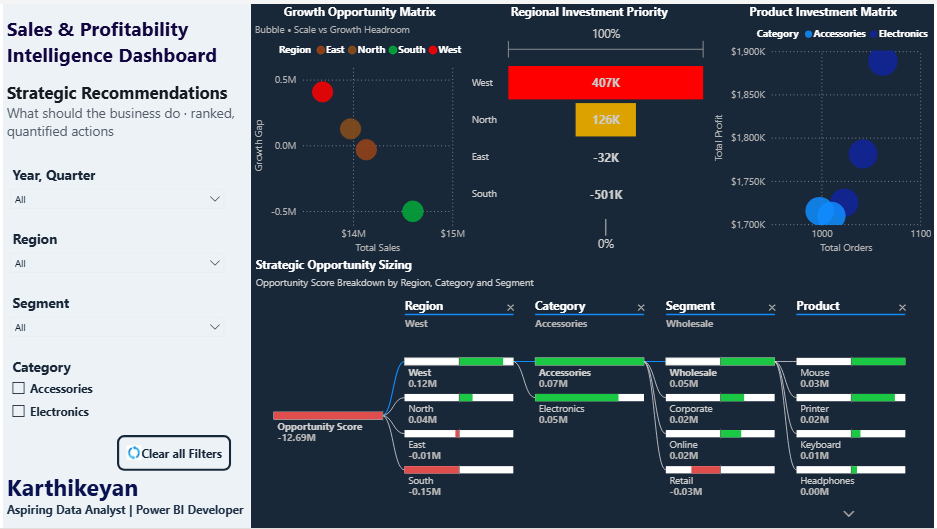

This screenshot's page, from the dashboard's own definition file:
{"tool":"powerbi","page":{"name":"Strategic Recommendations","canvas":[1280,720],"ordinal":5},"visuals":[{"type":"shape","box":[0,0,340.6,720],"z":0,"group":"g1"},{"type":"shape","box":[340.6,0,939.6,720],"z":1000,"group":"g1"},{"type":"textbox","box":[0,9,340.6,91.1],"z":2000,"group":"g1"},{"type":"slicer","fields":{"Values":["Calendar.Year","Calendar.Quarter"]},"box":[0,216.6,313.7,88.1],"z":3000,"group":"g1"},{"type":"slicer","fields":{"Values":["SalesData.Region"]},"box":[0,304.7,313.7,88.1],"z":4000,"group":"g1"},{"type":"slicer","fields":{"Values":["SalesData.Category"]},"box":[0,481,313.7,110.5],"z":5000,"group":"g1"},{"type":"slicer","fields":{"Values":["SalesData.Segment"]},"box":[0,392.9,313.7,88.1],"z":6000,"group":"g1"},{"type":"textbox","box":[0,636.3,339.1,83.7],"z":7000,"group":"g1"},{"type":"actionButton","box":[156.8,591.5,156.8,49.3],"z":8000,"group":"g1"},{"type":"textbox","box":[0,100.1,340.6,116.5],"z":9000,"group":"g1"},{"type":"scatterChart","title":"Growth Opportunity Matrix","fields":{"X":["SalesData.Total Sales"],"Y":["SalesData.Growth Gap"],"Size":["SalesData.Total Profit"],"Series":["SalesData.Region"],"Category":["SalesData.Region"]},"box":[340.6,0,298.8,348],"z":10000,"group":"g1"},{"type":"scatterChart","title":"Product Investment Matrix","fields":{"X":["SalesData.Total Orders"],"Y":["SalesData.Total Profit"],"Category":["SalesData.Product"],"Series":["SalesData.Category"],"Size":["SalesData.Total Sales"]},"box":[972.4,0,307.7,348],"z":11000,"group":"g1"},{"type":"funnel","title":"Regional Investment Priority","fields":{"Category":["SalesData.Region"],"Y":["SalesData.Growth Gap"]},"box":[639.3,0,333.1,348],"z":12000,"group":"g1"},{"type":"decompositionTreeVisual","title":"Strategic Opportunity Sizing","fields":{"Analyze":["SalesData.Opportunity Score"],"ExplainBy":["SalesData.Region","SalesData.Category","SalesData.Segment","SalesData.Product"]},"box":[342.1,348,938.1,372],"z":13000,"group":"g1"},{"type":"group","id":"g1","title":"Group 1","box":[0,0,1280.2,720],"z":13001}]}

Visuals, with their boxes on the page's 1280x720 design canvas (x1, y1, x2, y2). These are canvas units, not pixel positions in the 937x529 screenshot, which may show the page scaled, cropped or inside an application window:
shape: [left=0, top=0, right=341, bottom=720]
shape: [left=341, top=0, right=1280, bottom=720]
textbox: [left=0, top=9, right=341, bottom=100]
slicer - Calendar.Year x Calendar.Quarter: [left=0, top=217, right=314, bottom=305]
slicer - SalesData.Region: [left=0, top=305, right=314, bottom=393]
slicer - SalesData.Category: [left=0, top=481, right=314, bottom=592]
slicer - SalesData.Segment: [left=0, top=393, right=314, bottom=481]
textbox: [left=0, top=636, right=339, bottom=720]
actionButton: [left=157, top=592, right=314, bottom=641]
textbox: [left=0, top=100, right=341, bottom=217]
"Growth Opportunity Matrix" scatterChart: [left=341, top=0, right=639, bottom=348]
"Product Investment Matrix" scatterChart: [left=972, top=0, right=1280, bottom=348]
"Regional Investment Priority" funnel: [left=639, top=0, right=972, bottom=348]
"Strategic Opportunity Sizing" decompositionTreeVisual: [left=342, top=348, right=1280, bottom=720]
"Group 1" group: [left=0, top=0, right=1280, bottom=720]
